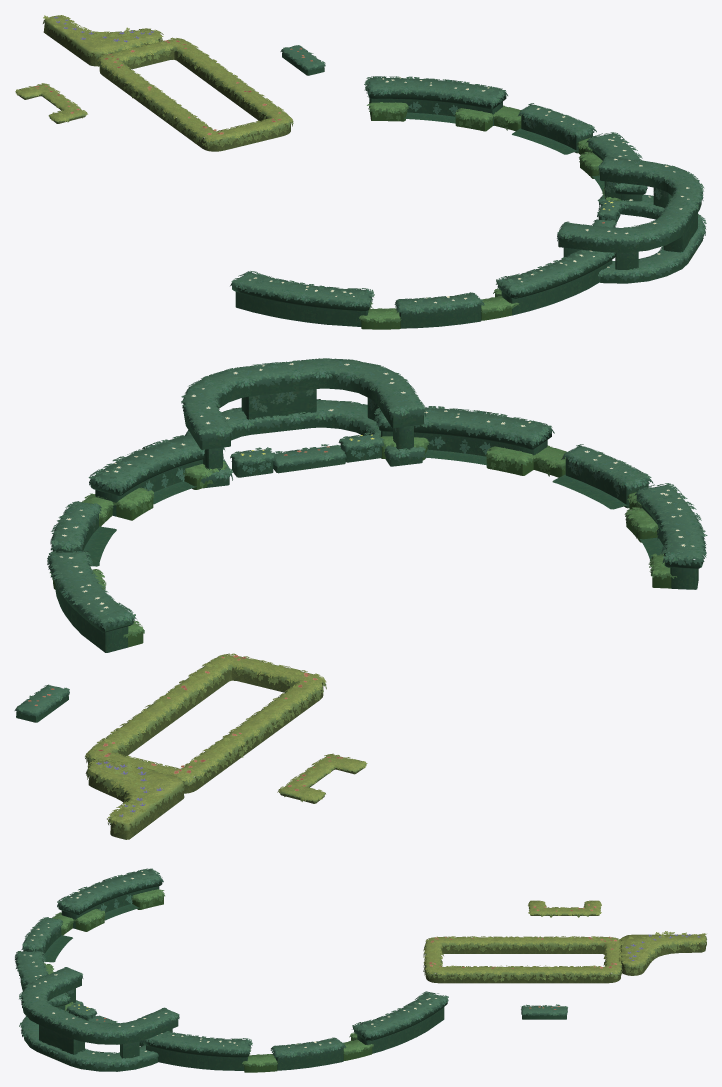
Rendered from pref_sm_garden_bush_vertexcolor_02_lv2.fbx.
The picture shows the model from 3 angles, top to bottom: view 1: azimuth 30°, elevation 25°; view 2: azimuth 150°, elevation 25°; view 3: azimuth 270°, elevation 25°; orthographic projection. The views are drawn at different scales.
Parts seen in each view (by area): view 1: pref_sm_garden_bush_vertexcolor_02_lv2; view 2: pref_sm_garden_bush_vertexcolor_02_lv2; view 3: pref_sm_garden_bush_vertexcolor_02_lv2.
Boxes of the visible parts, x1=… form: pref_sm_garden_bush_vertexcolor_02_lv2: x1=15, y1=15, x2=706, y2=329; pref_sm_garden_bush_vertexcolor_02_lv2: x1=14, y1=358, x2=707, y2=839; pref_sm_garden_bush_vertexcolor_02_lv2: x1=15, y1=868, x2=706, y2=1072.
Size of the model in its own units: 43.15 by 4.58 by 68.66.
